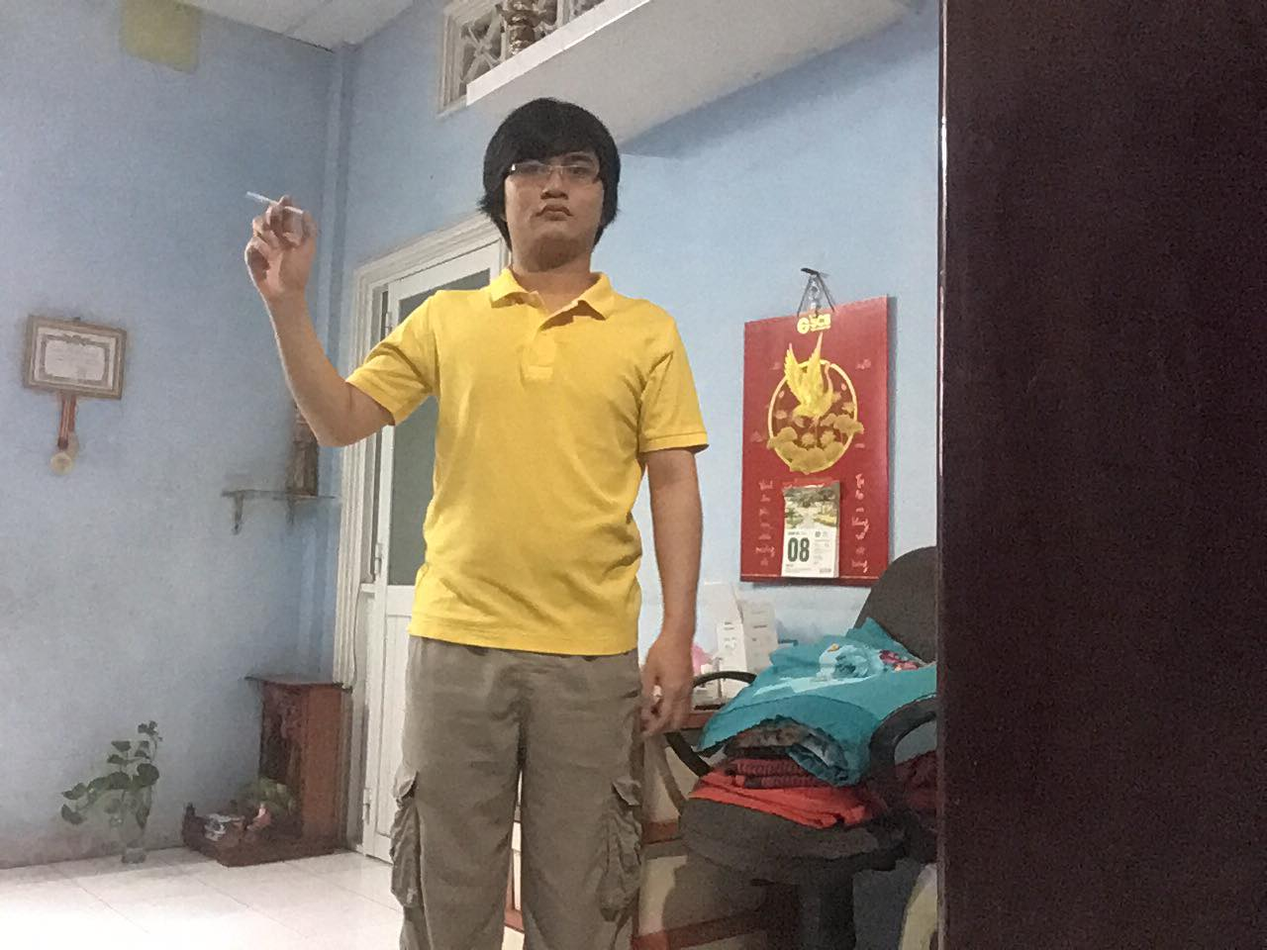cigarette: (239, 187, 278, 210)
person: (240, 129, 717, 944)
